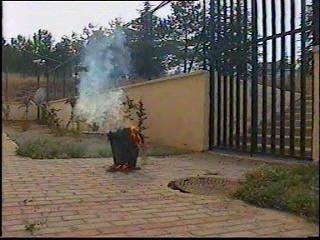smoke: (77, 31, 131, 128)
